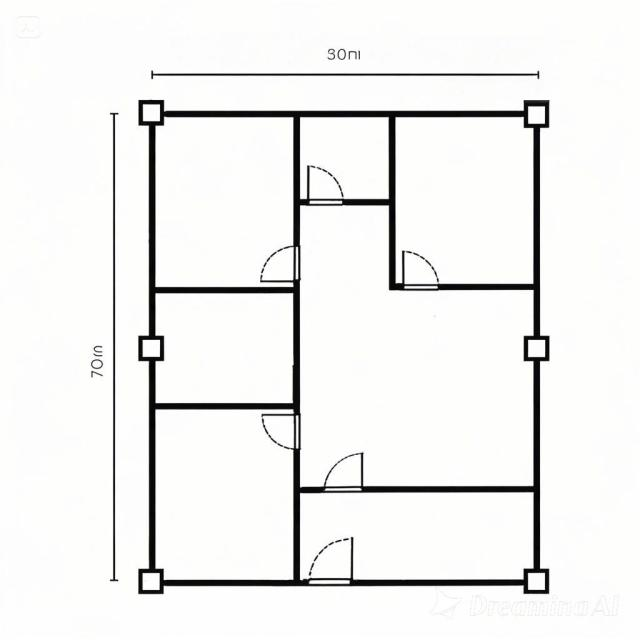Blueprint: (135, 96, 554, 598)
column: (134, 328, 170, 368), (519, 563, 554, 600), (518, 332, 556, 365), (518, 96, 552, 130), (135, 564, 169, 598), (134, 96, 168, 129)
wall: (164, 109, 524, 118), (147, 125, 158, 336), (531, 361, 542, 569), (532, 128, 542, 336), (147, 360, 157, 568), (350, 577, 524, 587), (156, 284, 294, 296), (388, 117, 397, 291), (363, 485, 534, 494), (292, 279, 302, 415), (292, 116, 302, 246), (164, 578, 308, 587), (156, 402, 294, 411), (292, 448, 301, 578), (438, 282, 534, 291), (342, 197, 389, 207), (300, 485, 326, 494), (299, 198, 309, 207), (395, 282, 404, 292)
